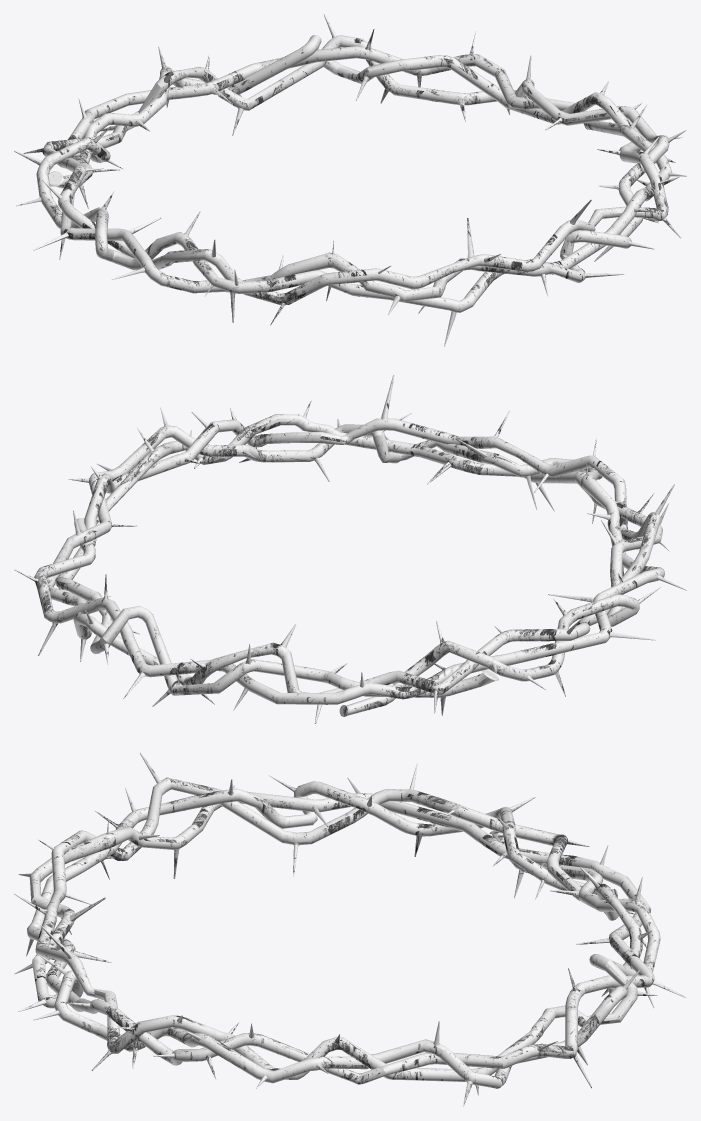
Rendered from IceCrown.glb.
3 views of the same model, one above another, from view 1: azimuth 30°, elevation 25°; view 2: azimuth 150°, elevation 25°; view 3: azimuth 270°, elevation 25° (orthographic). The views are drawn at different scales.
Parts seen in each view (by area): view 1: Crown; view 2: Crown; view 3: Crown.
Boxes of the visible parts, <box> form: Crown: <box>14,14,686,346</box>; Crown: <box>14,375,686,723</box>; Crown: <box>14,752,686,1106</box>.
Size of the model in its own units: 7.98 by 1.48 by 7.38.
1 material, 1 textured.
